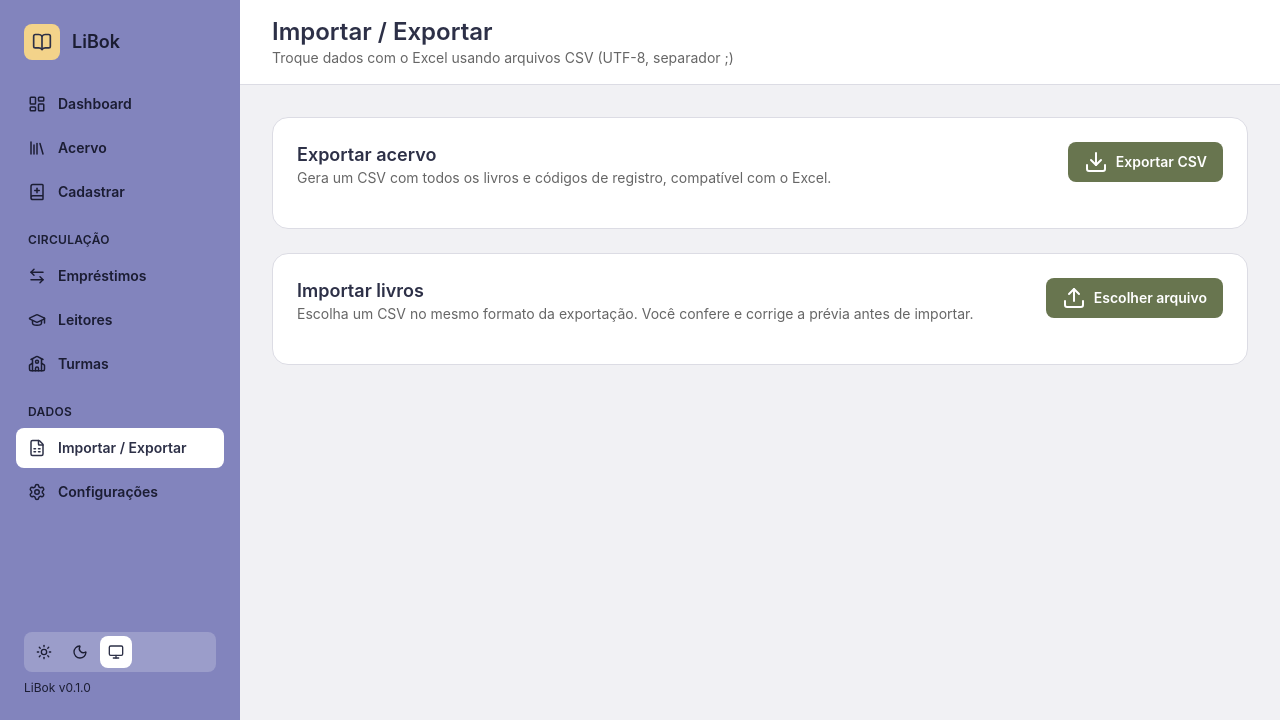
fluxo: corrigir linhas na prévia › ignorar linha não envia e permite desfazer
Click the button "Escolher arquivo" at [1134, 298], box [1046, 278, 1223, 318]
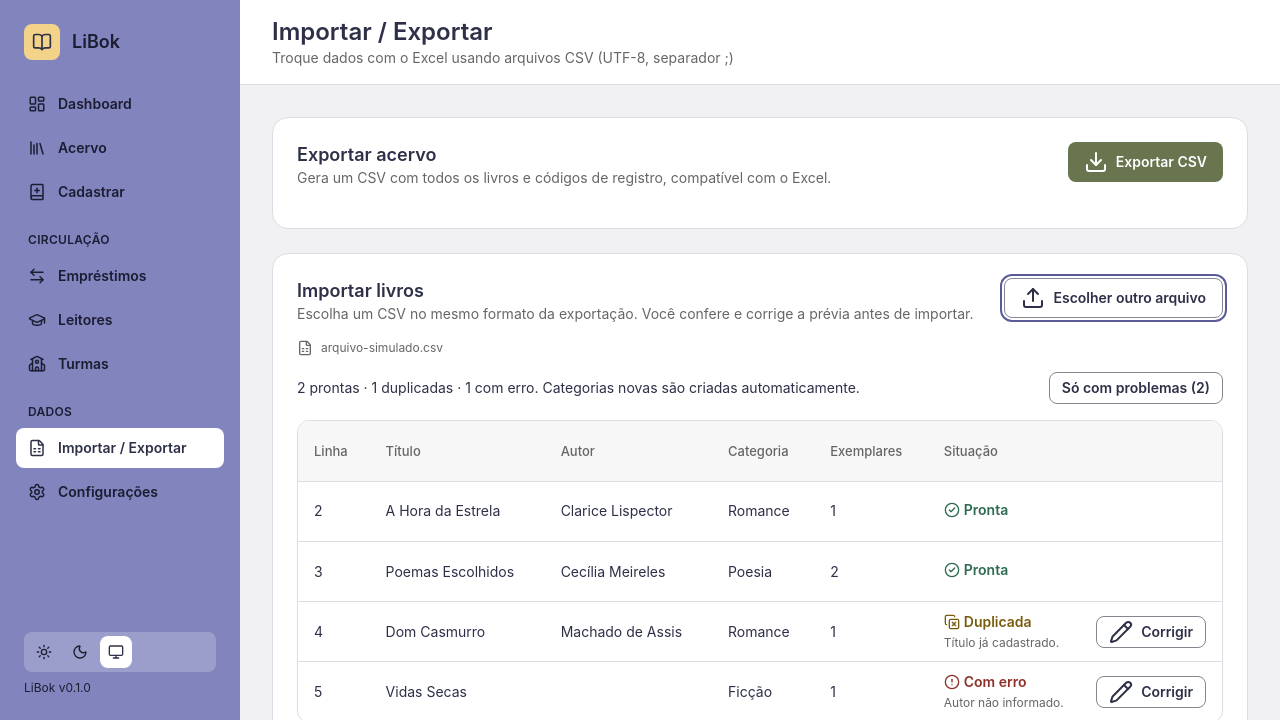
Result: the text "Poemas Escolhidos" is shown at [370, 542, 545, 602]
Click the button with aria-label "Corrigir linha 5" at [1151, 692], box [1096, 676, 1206, 708]
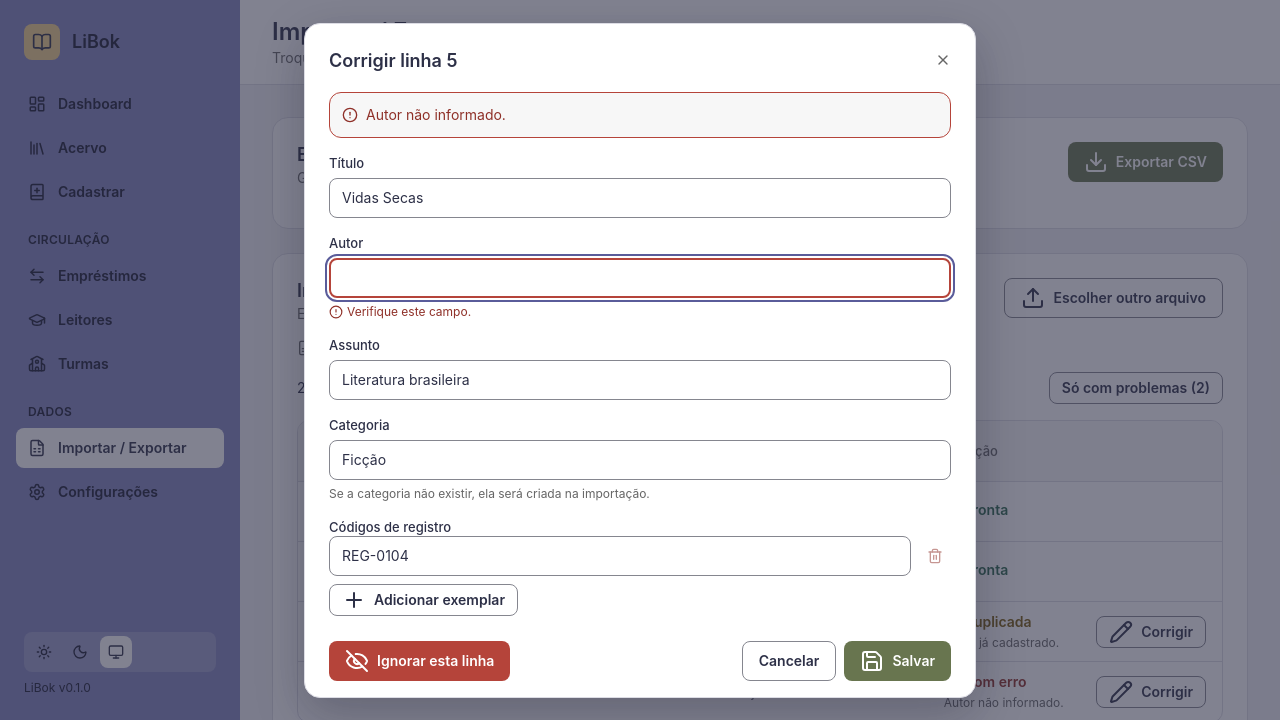
Click the button "Ignorar esta linha" at [420, 660], box [329, 640, 510, 680]
(page scrolled)
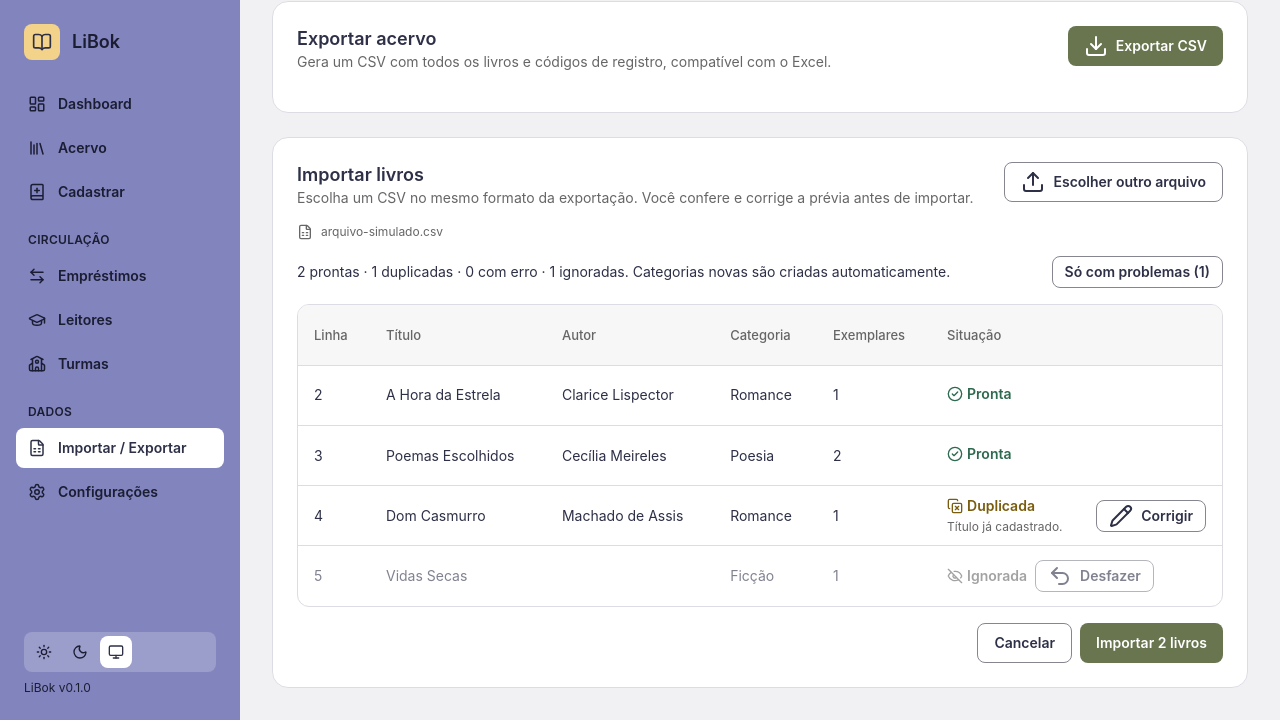
Result: the dialog is gone
Result: the text "Ignorada" is shown at [947, 566, 1027, 586]
Result: the message shows "2 prontas · 1 duplicadas · 0 com erro" at [297, 262, 950, 282]
Click the button "Importar 2 livros" at [1152, 642], box [1080, 622, 1223, 662]
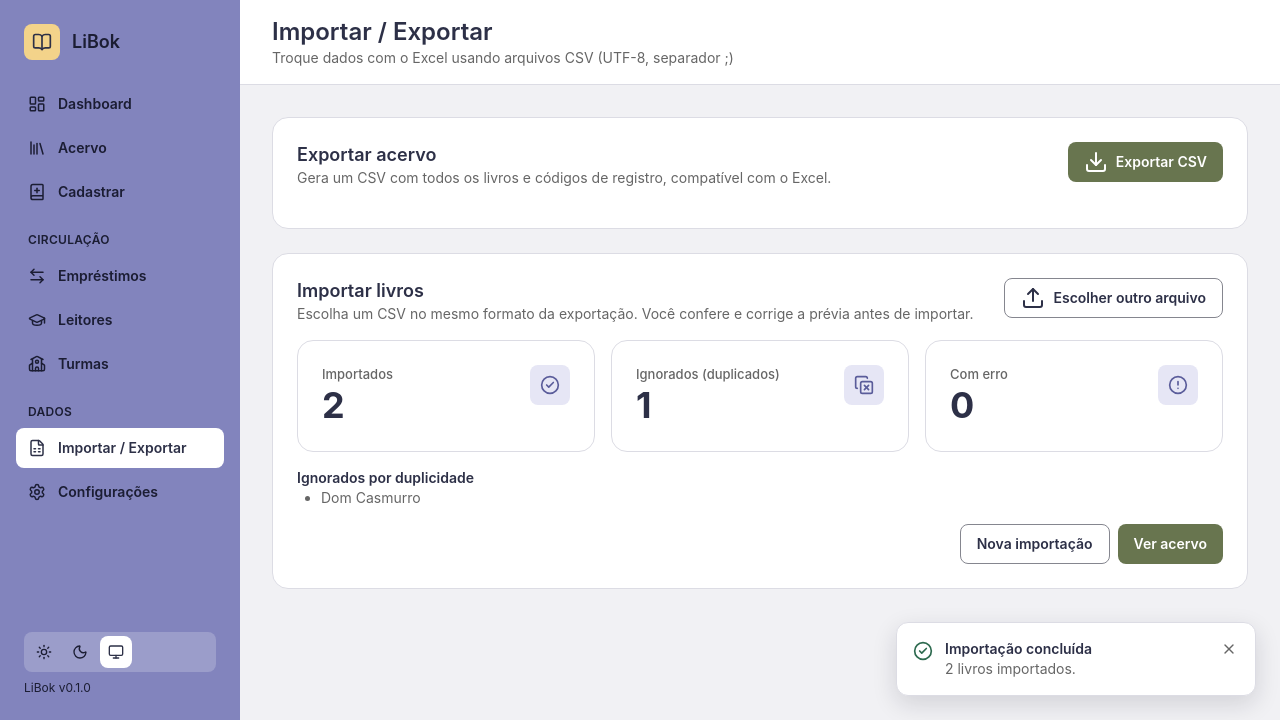
Result: the element named "Relatório da importação" is shown at [297, 340, 1223, 564]
